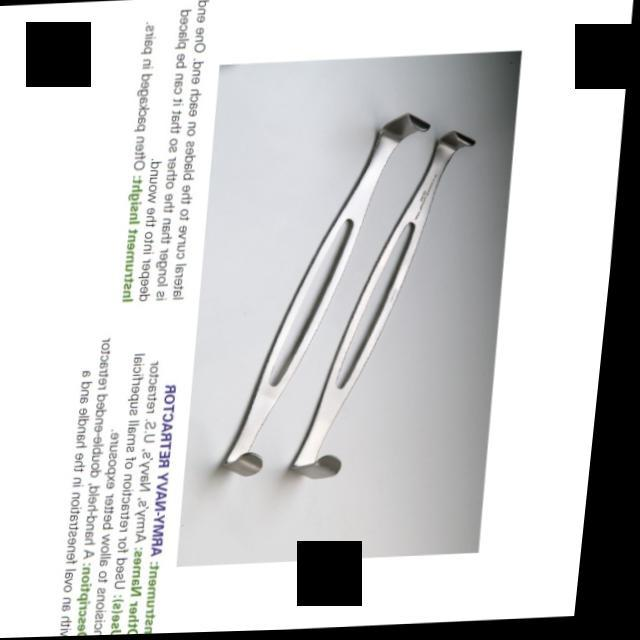Army Navy Retractor: (216, 110, 448, 506), (289, 127, 482, 488)
